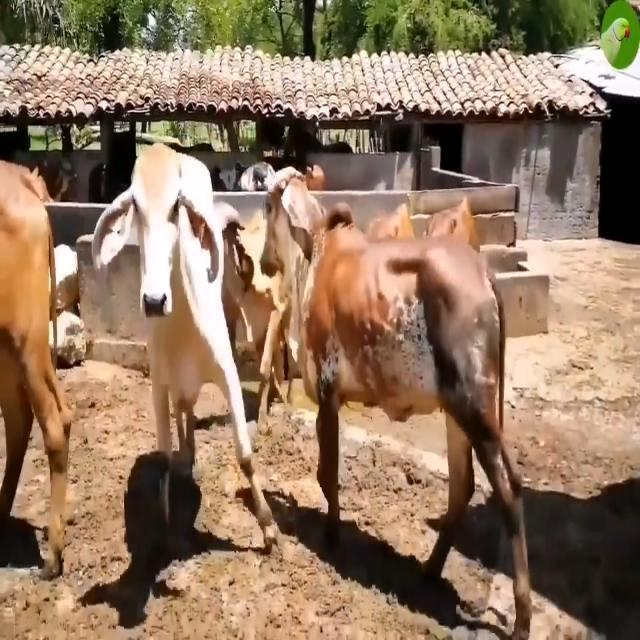COW: (261, 176, 531, 639), (92, 144, 278, 548), (0, 161, 71, 578)
